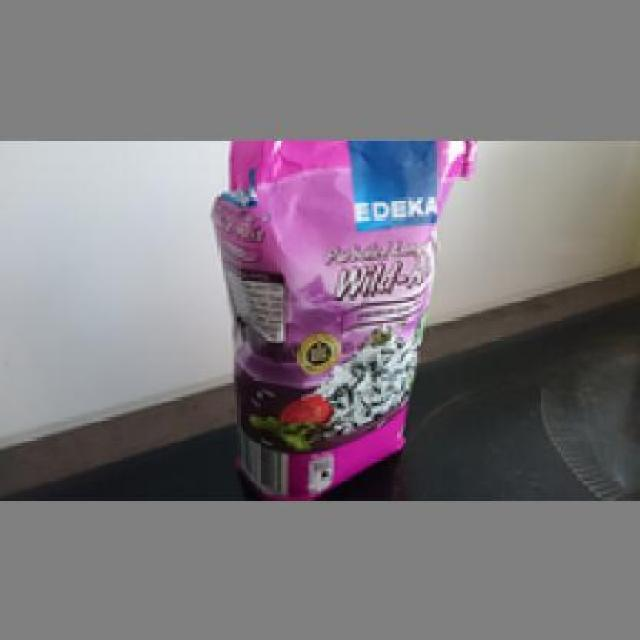Rice: (205, 137, 478, 494)
